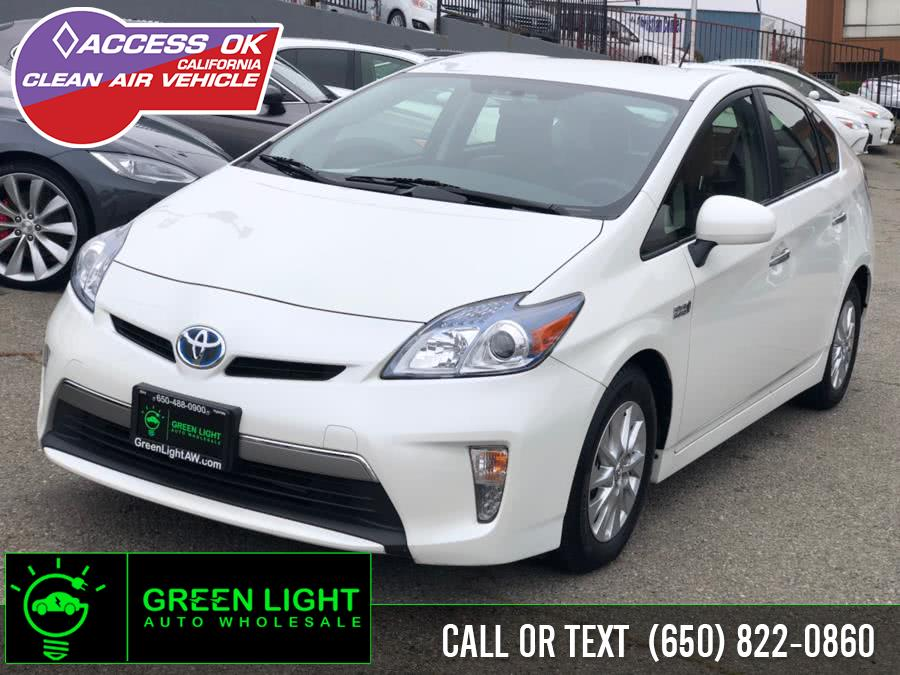Toyota Prius: (32, 48, 878, 581)
